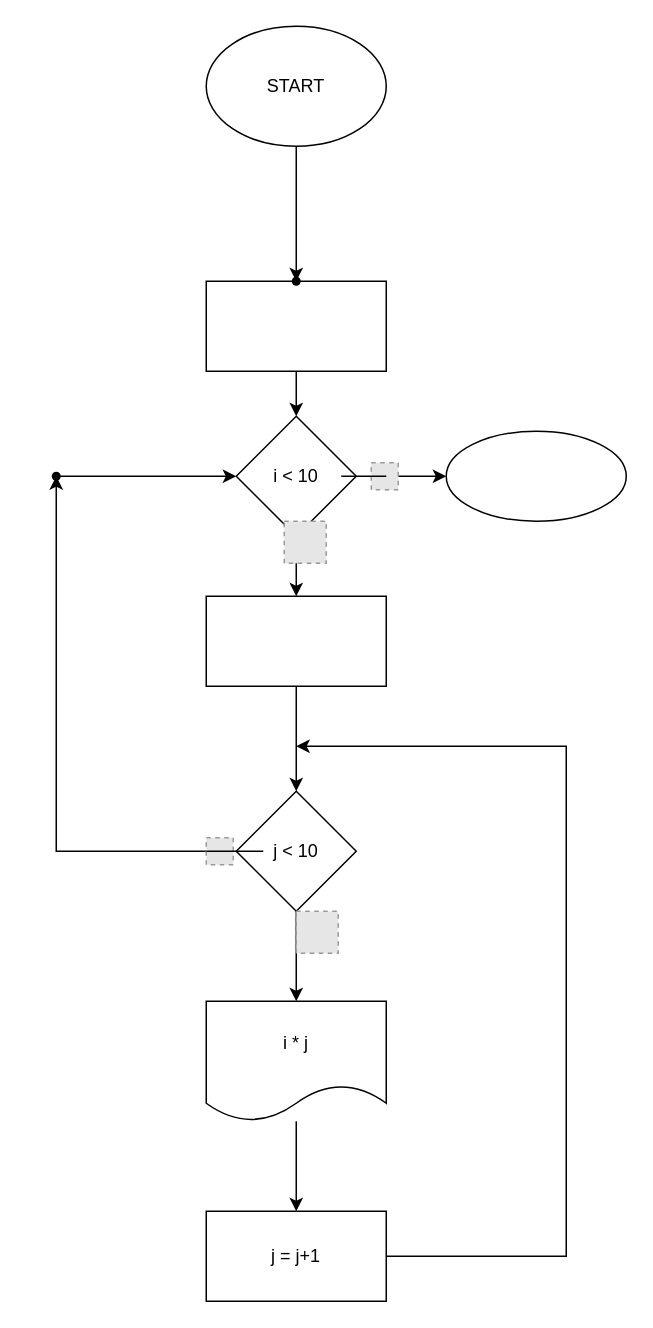
Some shapes in this 653 by 1328 pixel diagram are drawn without their labels. Grey dashed boxes stand in for pictures. Here are the shapes that lost their labels. From the top down, the box of each, then its label:
(205, 280, 386, 371): i = 1
(445, 430, 626, 521): end
(205, 595, 386, 686): j = 1
